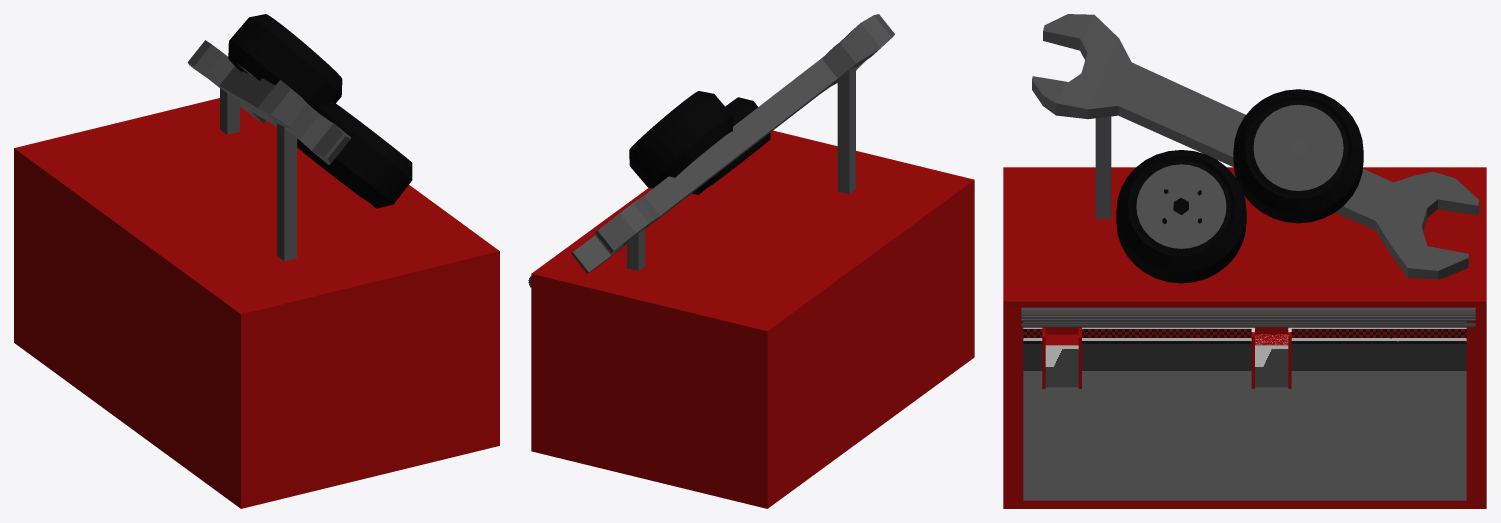
The model's file is garage _textured.glb.
3 views of the same model, side by side, from view 1: azimuth 30°, elevation 25°; view 2: azimuth 150°, elevation 25°; view 3: azimuth 270°, elevation 25° (orthographic). The views are drawn at different scales.
Visible parts, largest first — view 1: Cube.001, Cube, Cylinder.002, Cylinder.001, Cube.002; view 2: Cube.001, Cube, Cylinder.002, Cube.002, Cylinder.001; view 3: Cube.001, Cube, Cylinder.001, Cylinder.002, Cylinder, Cube.005, Cube.004, Cube.002.
Boxes of the visible parts, x1,y1,x2,y2 form: Cube.001: [14, 98, 499, 508]; Cube: [187, 40, 350, 164]; Cylinder.002: [228, 14, 342, 108]; Cylinder.001: [297, 101, 412, 208]; Cube.002: [220, 88, 296, 261]; Cube.001: [531, 130, 974, 508]; Cube: [571, 14, 894, 273]; Cylinder.002: [629, 91, 732, 188]; Cube.002: [627, 67, 855, 270]; Cylinder.001: [692, 97, 770, 194]; Cube.001: [1003, 167, 1486, 508]; Cube: [1032, 14, 1479, 279]; Cylinder.001: [1116, 150, 1246, 283]; Cylinder.002: [1233, 89, 1363, 223]; Cylinder: [1021, 307, 1475, 327]; Cube.005: [1251, 327, 1291, 388]; Cube.004: [1042, 327, 1081, 388]; Cube.002: [1095, 116, 1111, 218].
Bounding box in the file's own units: 42.37 × 57.2 × 62.31.
Materials: 1 (1 with a texture image).
